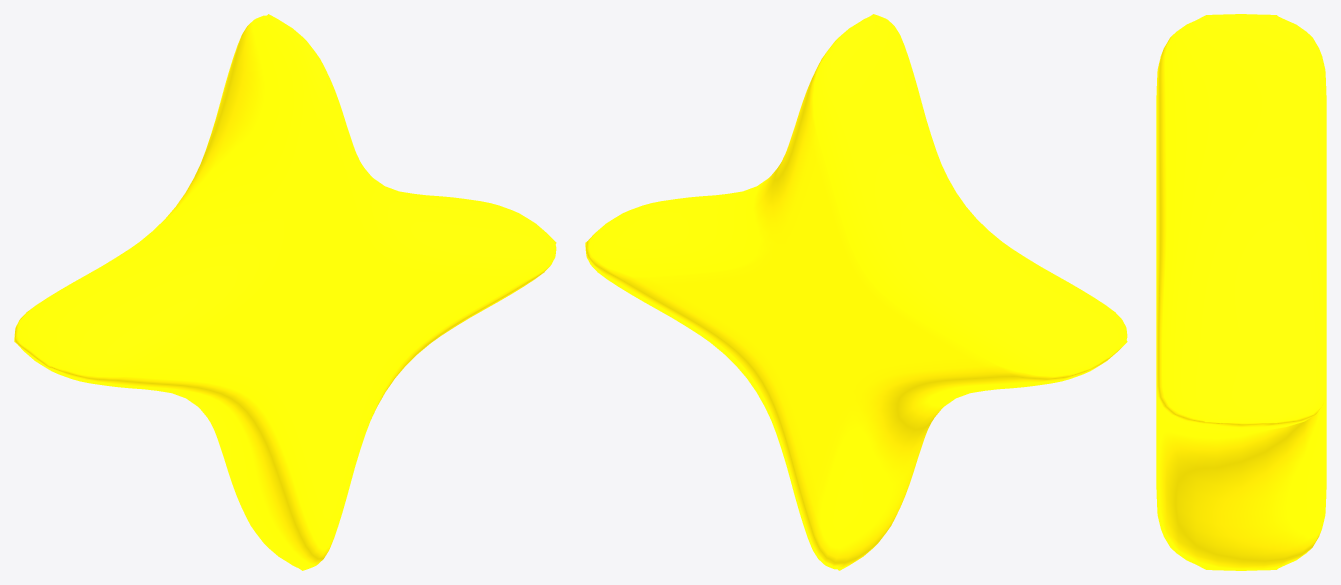
Rendered from shape_hexagon.glb.
3 renders of one model, left to right at view 1: azimuth 30°, elevation 25°; view 2: azimuth 150°, elevation 25°; view 3: azimuth 270°, elevation 25°, orthographic. The views are drawn at different scales.
Parts seen in each view (by area): view 1: Circle.001; view 2: Circle.001; view 3: Circle.001.
Boxes of the visible parts, x1,y1,x2,y2 form: Circle.001: (14, 14, 556, 570); Circle.001: (585, 14, 1127, 570); Circle.001: (1156, 14, 1326, 570).
Size of the model in its own units: 0.7995 by 0.8 by 0.2218.
